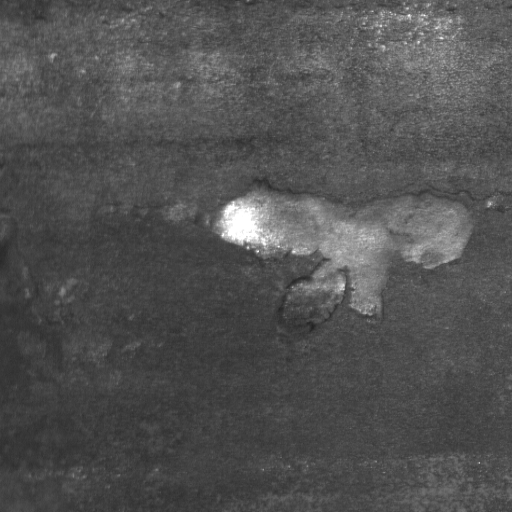aokeng: (209, 175, 476, 336)
